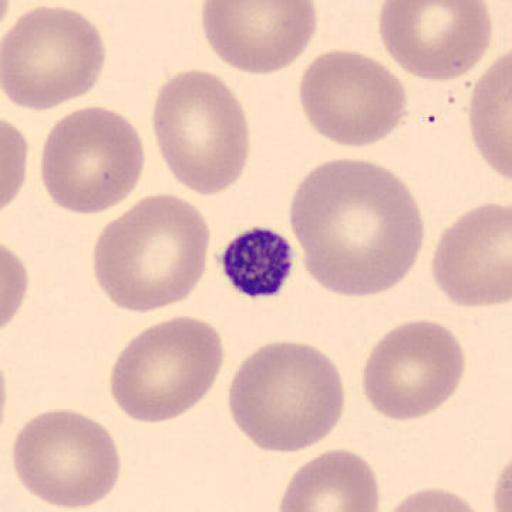Platelet: (218, 224, 298, 300)
RBC: (288, 156, 425, 297), (92, 192, 211, 314), (226, 339, 347, 455), (150, 67, 251, 197), (108, 313, 225, 425), (38, 104, 145, 216), (12, 407, 122, 511), (297, 47, 408, 149), (2, 4, 106, 112), (359, 318, 466, 422), (378, 0, 494, 83), (200, 0, 318, 76), (431, 202, 512, 309), (276, 447, 380, 512), (468, 50, 512, 184), (380, 486, 487, 512), (1, 116, 29, 214), (0, 241, 30, 332), (490, 457, 512, 512), (0, 0, 13, 42), (0, 0, 10, 52)
